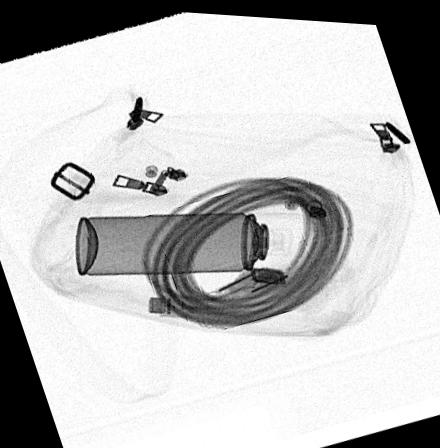Sprayer: (75, 208, 306, 275)
